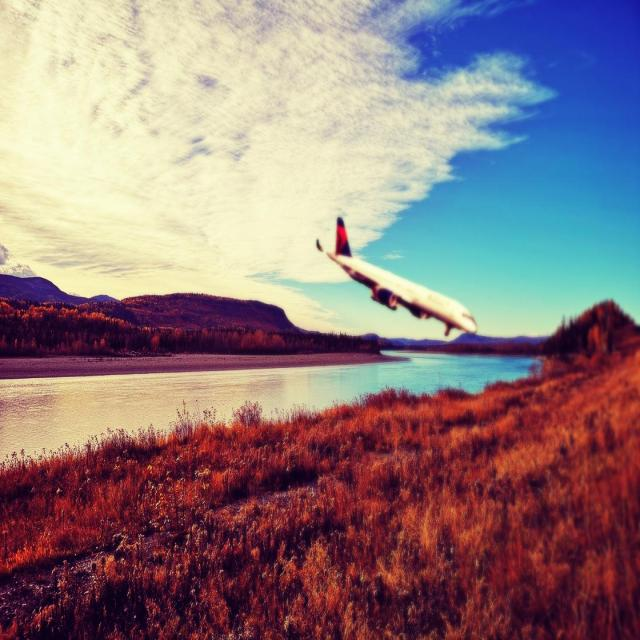airplane: (315, 215, 477, 337)
